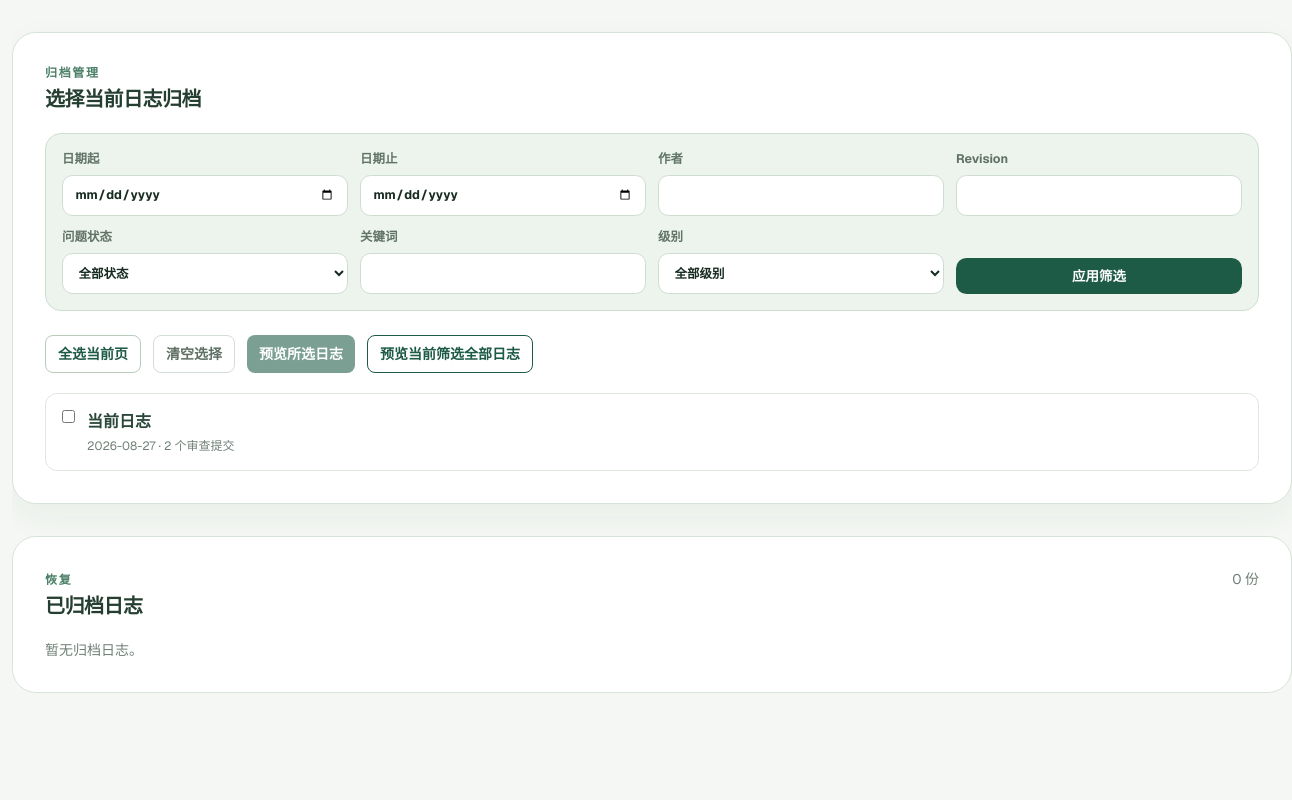
Test: 归档库与归档管理 UI › 显式选择日志后先预览，确认时只提交预览令牌
This screenshot has width=1292, height=800.
Step 1. Click the checkbox labelled "当前日志 2026-08-27 · 2 个审查提交" → (68, 417), box [62,410,75,423]
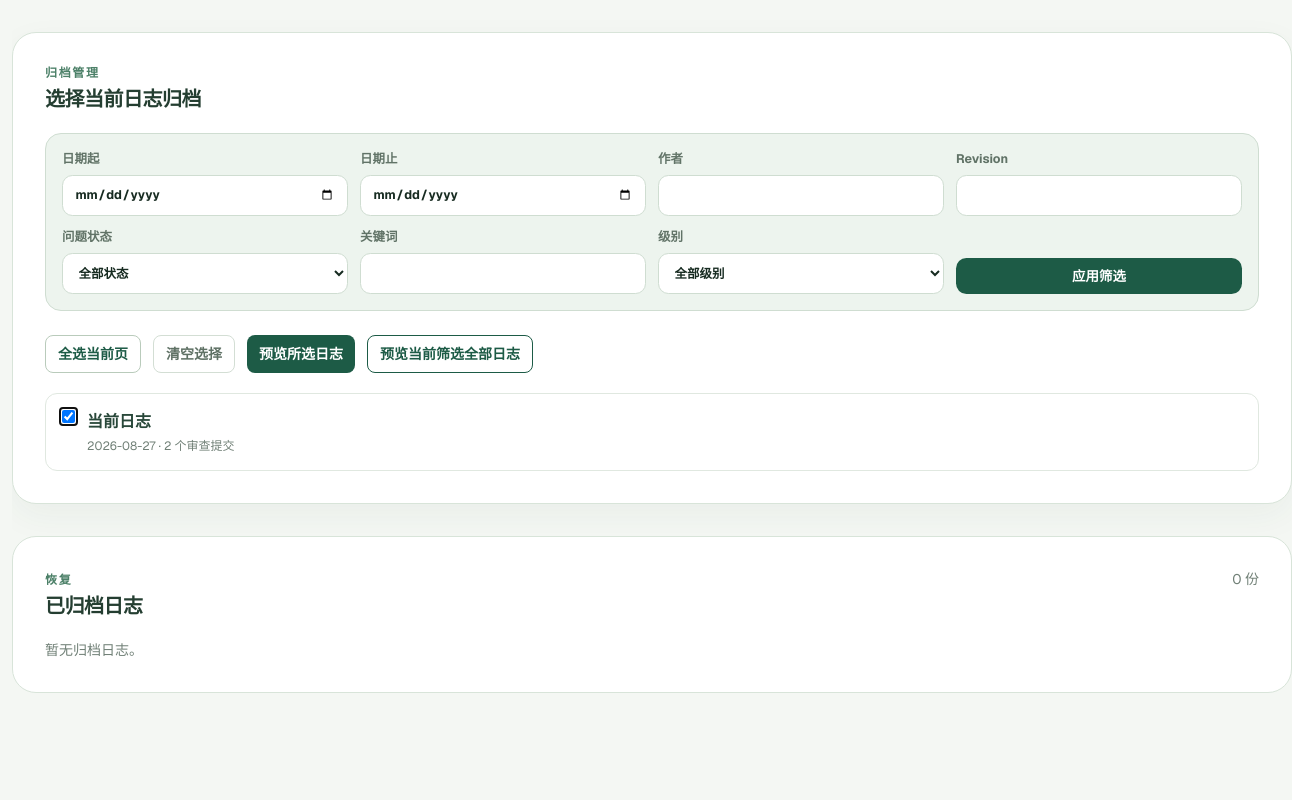
Step 2. Click the button "预览所选日志" → (301, 354), box [247,335,355,373]
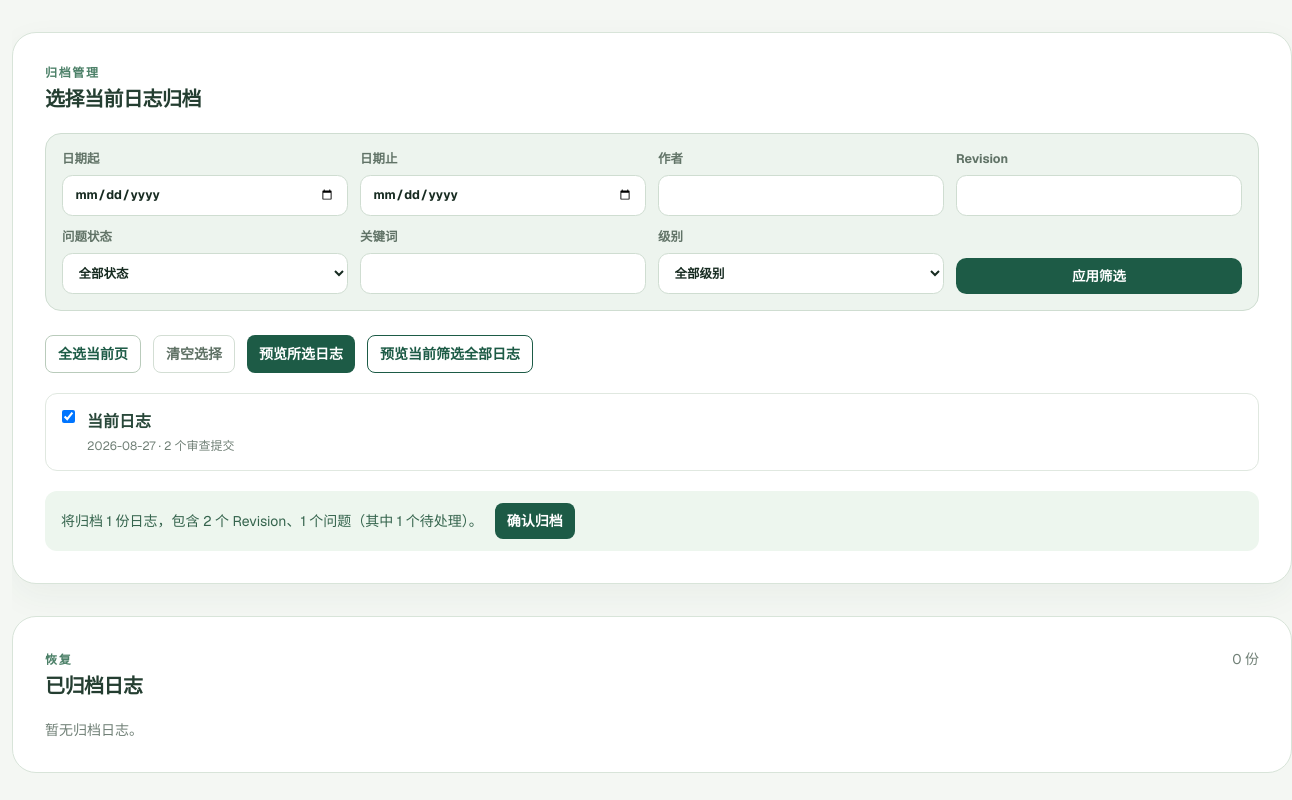
Expected: the text "将归档 1 份日志，包含 2 个 Revision、1 个问题（其中 1 个待处理）。 确认归档" is shown, [45,491,1259,551]
Step 3. Click the button "确认归档" → (535, 521), box [495,503,575,539]
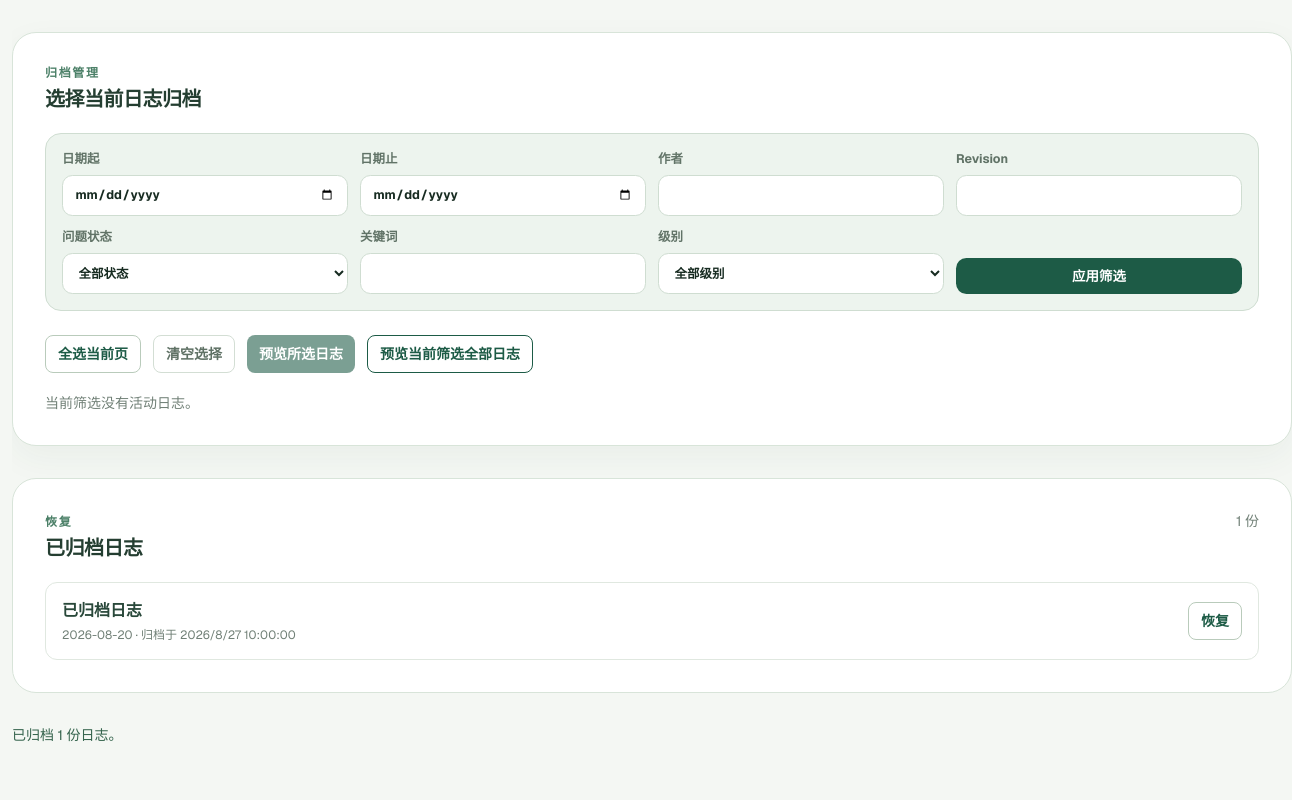
Expected: the text "已归档 1 份日志。" is shown, [12,726,122,744]
